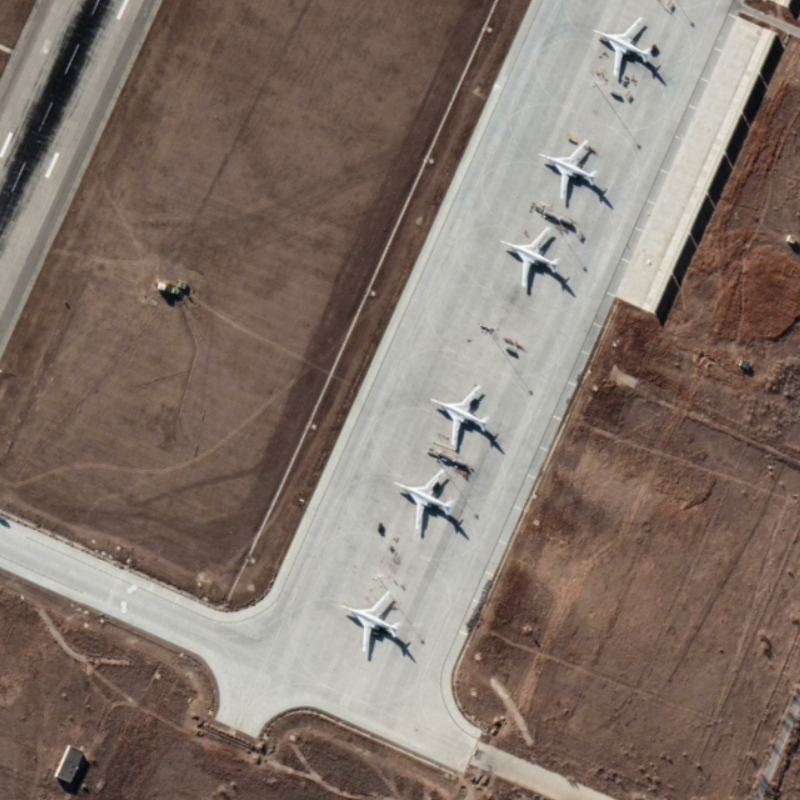A6: (389, 466, 457, 534), (496, 225, 565, 292), (337, 588, 404, 657), (534, 137, 600, 206), (429, 382, 495, 451), (590, 14, 655, 83)
